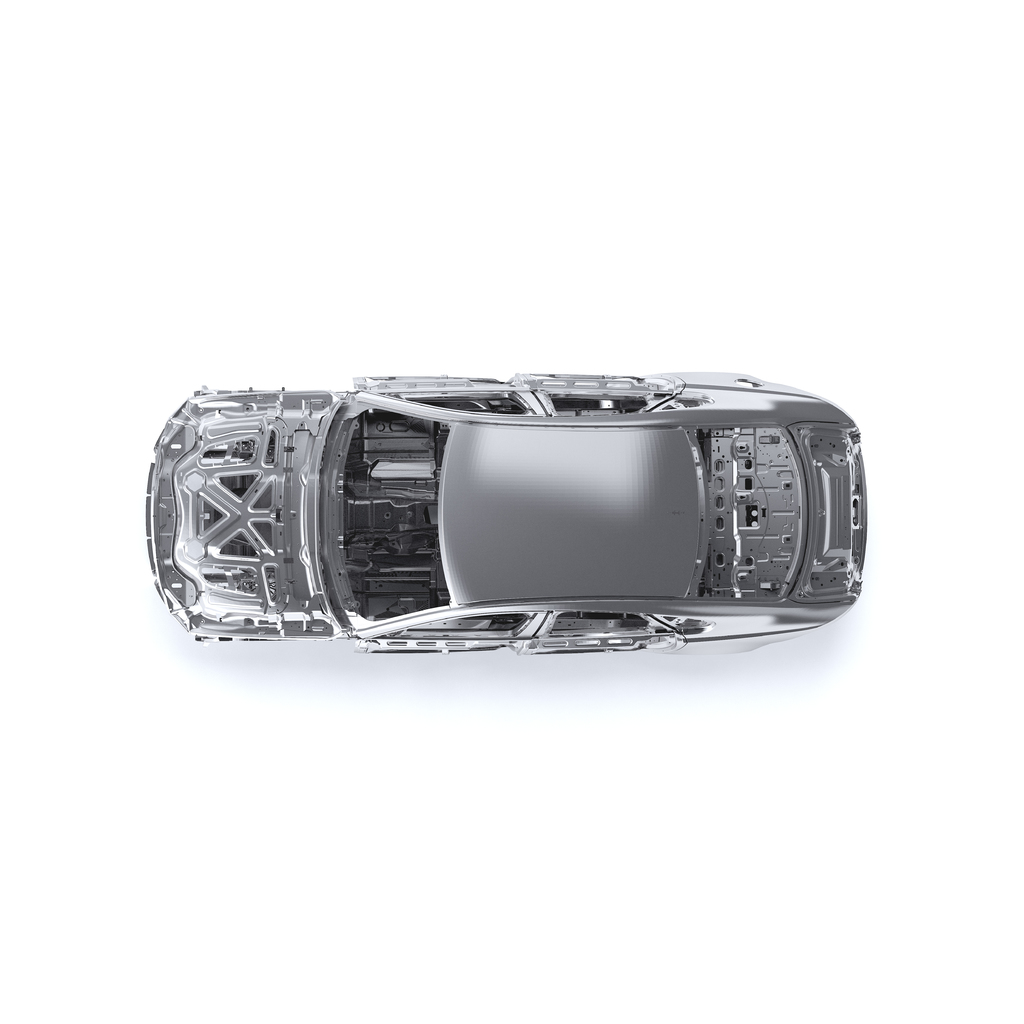mobil: (118, 351, 884, 667)
